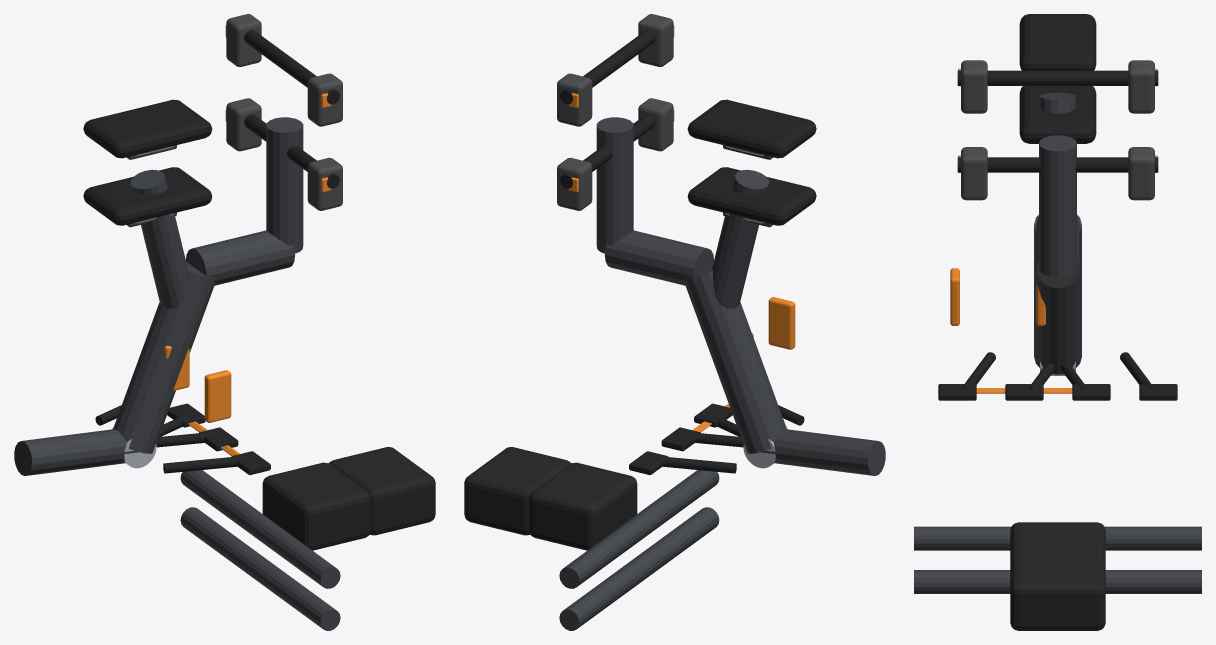
Rendered from zwift-ride-v2.glb.
3 renders of one model, left to right at view 1: azimuth 30°, elevation 25°; view 2: azimuth 150°, elevation 25°; view 3: azimuth 270°, elevation 25°, orthographic. The views are drawn at different scales.
Visible parts, largest first — view 1: zwift-ride-v2_MAIN_BEAM, zwift-ride-v2_RISER_FOOT, zwift-ride-v2_RISER_FOOT_EXPLODED, zwift-ride-v2_SADDLE_EXPLODED, zwift-ride-v2_FRONT_MAST, zwift-ride-v2_FRONT_LEG_EXPLODED, zwift-ride-v2_FRONT_LEG, zwift-ride-v2_SADDLE, zwift-ride-v2_CHAINSTAY, zwift-ride-v2_TOP_BEAM, zwift-ride-v2_SEAT_MAST, zwift-ride-v2_CTRL_L_EXPLODED (+7 smaller); view 2: zwift-ride-v2_MAIN_BEAM, zwift-ride-v2_RISER_FOOT, zwift-ride-v2_RISER_FOOT_EXPLODED, zwift-ride-v2_SADDLE_EXPLODED, zwift-ride-v2_FRONT_MAST, zwift-ride-v2_FRONT_LEG_EXPLODED, zwift-ride-v2_FRONT_LEG, zwift-ride-v2_SADDLE, zwift-ride-v2_CHAINSTAY, zwift-ride-v2_TOP_BEAM, zwift-ride-v2_SEAT_MAST, zwift-ride-v2_CTRL_R_EXPLODED (+7 smaller); view 3: zwift-ride-v2_RISER_FOOT_EXPLODED, zwift-ride-v2_FRONT_MAST, zwift-ride-v2_FRONT_LEG, zwift-ride-v2_FRONT_LEG_EXPLODED, zwift-ride-v2_SADDLE_EXPLODED, zwift-ride-v2_MAIN_BEAM, zwift-ride-v2_SADDLE, zwift-ride-v2_RISER_FOOT, zwift-ride-v2_HANDLEBAR_EXPLODED, zwift-ride-v2_HANDLEBAR, zwift-ride-v2_CTRL_L, zwift-ride-v2_CTRL_R (+11 smaller).
Part boxes in pixels (left/top/right/bottom): zwift-ride-v2_MAIN_BEAM: left=113, top=262, right=215, bottom=453; zwift-ride-v2_RISER_FOOT: left=262, top=462, right=370, bottom=550; zwift-ride-v2_RISER_FOOT_EXPLODED: left=328, top=447, right=435, bottom=535; zwift-ride-v2_SADDLE_EXPLODED: left=83, top=99, right=212, bottom=158; zwift-ride-v2_FRONT_MAST: left=266, top=117, right=303, bottom=253; zwift-ride-v2_FRONT_LEG_EXPLODED: left=180, top=507, right=340, bottom=630; zwift-ride-v2_FRONT_LEG: left=180, top=470, right=340, bottom=588; zwift-ride-v2_SADDLE: left=83, top=167, right=212, bottom=225; zwift-ride-v2_CHAINSTAY: left=14, top=429, right=138, bottom=475; zwift-ride-v2_TOP_BEAM: left=186, top=230, right=294, bottom=285; zwift-ride-v2_SEAT_MAST: left=130, top=169, right=187, bottom=308; zwift-ride-v2_CTRL_L_EXPLODED: left=307, top=73, right=342, bottom=126; zwift-ride-v2_MAIN_BEAM: left=684, top=262, right=786, bottom=453; zwift-ride-v2_RISER_FOOT: left=529, top=462, right=637, bottom=550; zwift-ride-v2_RISER_FOOT_EXPLODED: left=464, top=447, right=571, bottom=535; zwift-ride-v2_SADDLE_EXPLODED: left=687, top=99, right=816, bottom=158; zwift-ride-v2_FRONT_MAST: left=596, top=117, right=633, bottom=253; zwift-ride-v2_FRONT_LEG_EXPLODED: left=559, top=507, right=719, bottom=630; zwift-ride-v2_FRONT_LEG: left=559, top=470, right=719, bottom=588; zwift-ride-v2_SADDLE: left=687, top=167, right=816, bottom=225; zwift-ride-v2_CHAINSTAY: left=761, top=429, right=885, bottom=475; zwift-ride-v2_TOP_BEAM: left=605, top=230, right=713, bottom=285; zwift-ride-v2_SEAT_MAST: left=712, top=169, right=769, bottom=308; zwift-ride-v2_CTRL_R_EXPLODED: left=557, top=73, right=592, bottom=126; zwift-ride-v2_RISER_FOOT_EXPLODED: left=1010, top=554, right=1105, bottom=630; zwift-ride-v2_FRONT_MAST: left=1039, top=135, right=1076, bottom=276; zwift-ride-v2_FRONT_LEG: left=914, top=526, right=1201, bottom=550; zwift-ride-v2_FRONT_LEG_EXPLODED: left=914, top=570, right=1201, bottom=593; zwift-ride-v2_SADDLE_EXPLODED: left=1019, top=14, right=1096, bottom=70; zwift-ride-v2_MAIN_BEAM: left=1034, top=215, right=1081, bottom=374; zwift-ride-v2_SADDLE: left=1019, top=86, right=1096, bottom=143; zwift-ride-v2_RISER_FOOT: left=1010, top=522, right=1105, bottom=561; zwift-ride-v2_HANDLEBAR_EXPLODED: left=957, top=70, right=1158, bottom=85; zwift-ride-v2_HANDLEBAR: left=957, top=157, right=1158, bottom=172; zwift-ride-v2_CTRL_L: left=961, top=147, right=987, bottom=200; zwift-ride-v2_CTRL_R: left=1128, top=147, right=1154, bottom=200.
Bounding box in the file's own units: 0.9792 × 1.25 × 0.602.
